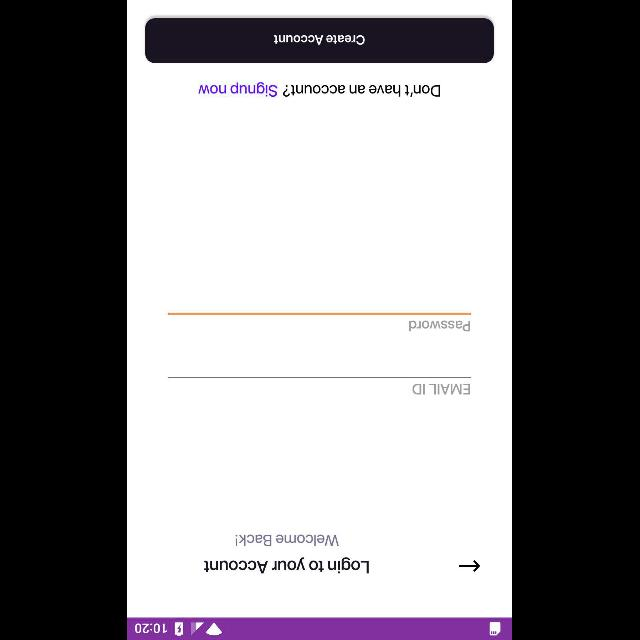icon: (460, 560, 480, 572)
input: (168, 313, 472, 332), (168, 376, 472, 394)
text: (204, 556, 370, 574), (236, 534, 340, 546), (410, 321, 470, 332), (413, 384, 471, 394)
textbutton: (146, 18, 494, 64), (199, 82, 441, 98)
uppertaskbar: (128, 617, 512, 639)
